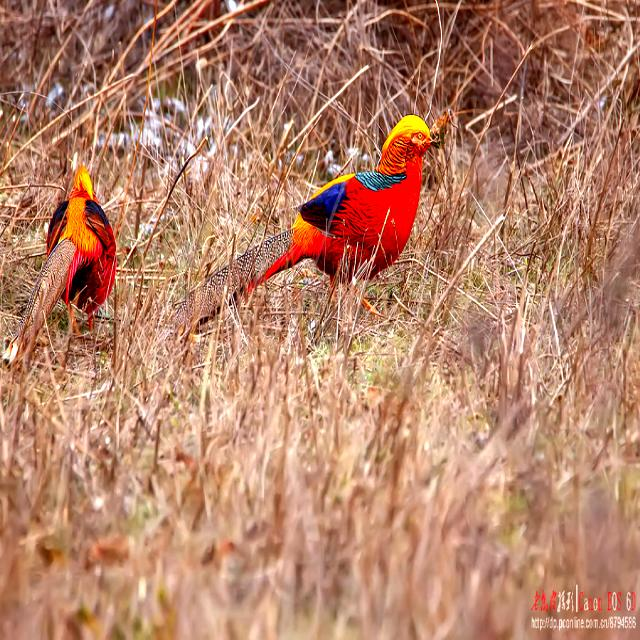Chrysolophus pictus feather: (176, 230, 291, 324), (4, 240, 75, 359)
